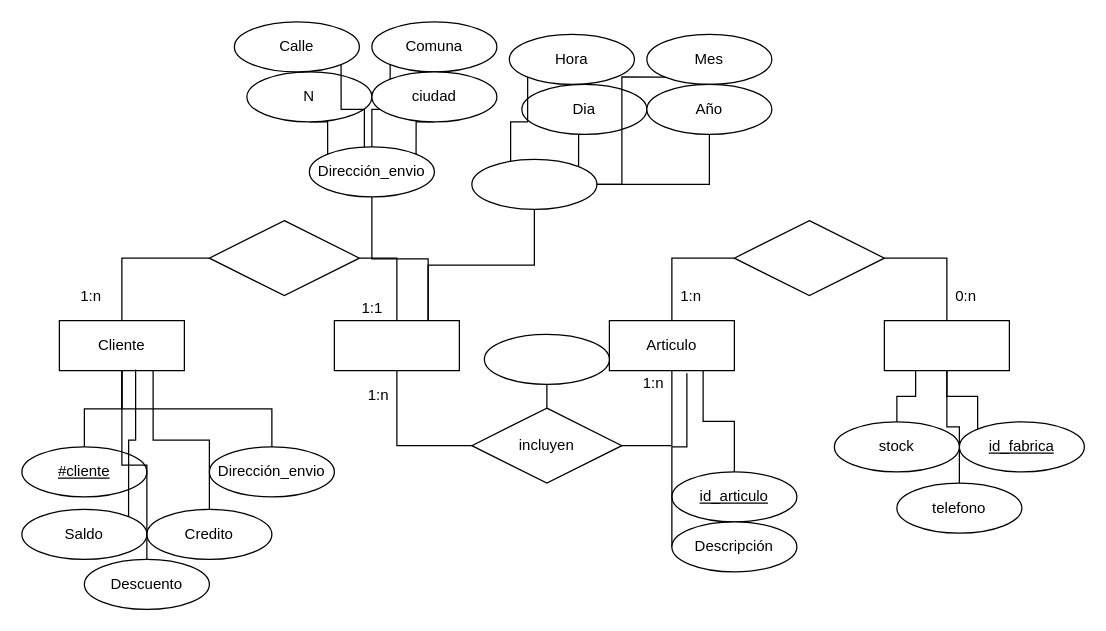
Image size: 1106x631. Some labels were removed from this diagram. The centre of each missing label's shape, as x and y in pixels:
"cantidad" belongs at point (546, 358).
"Fabrica" belongs at point (946, 345).
"Fecha" belongs at point (534, 183).
"Manufacturados" belongs at point (808, 257).
"Pedido" belongs at point (396, 345).
"Realiza" belongs at point (283, 257).
